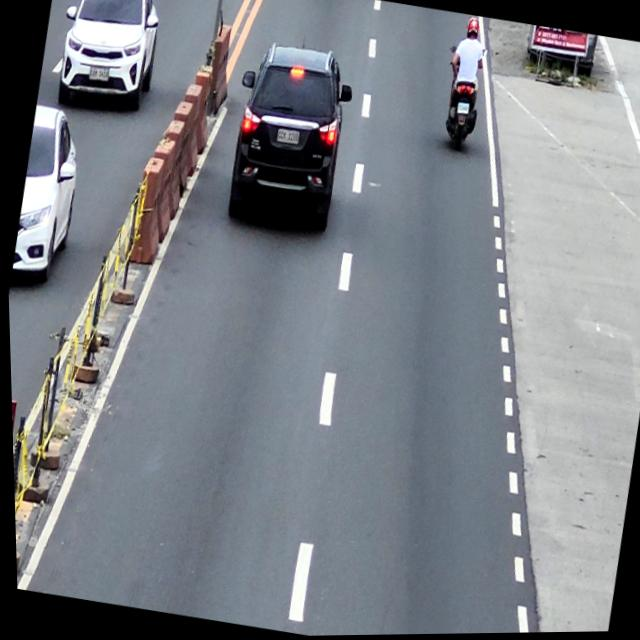Car: (216, 39, 362, 239), (4, 104, 91, 290), (49, 0, 172, 121)
License-Plate: (275, 128, 298, 145), (87, 65, 109, 82), (455, 103, 468, 117)
Motorcycle: (431, 43, 490, 154)
